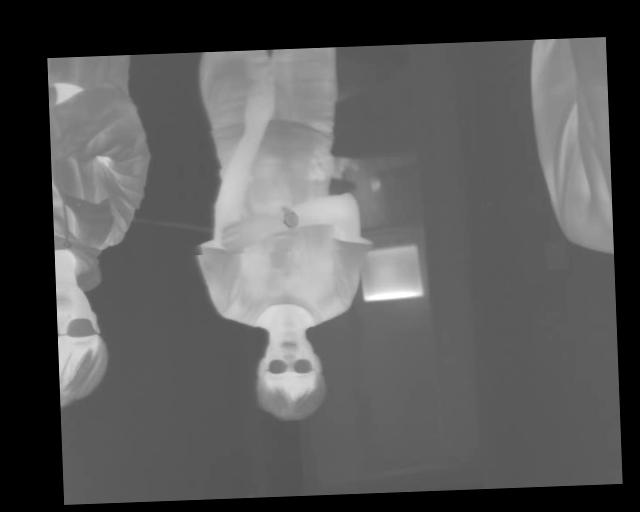face: (252, 328, 327, 423)
